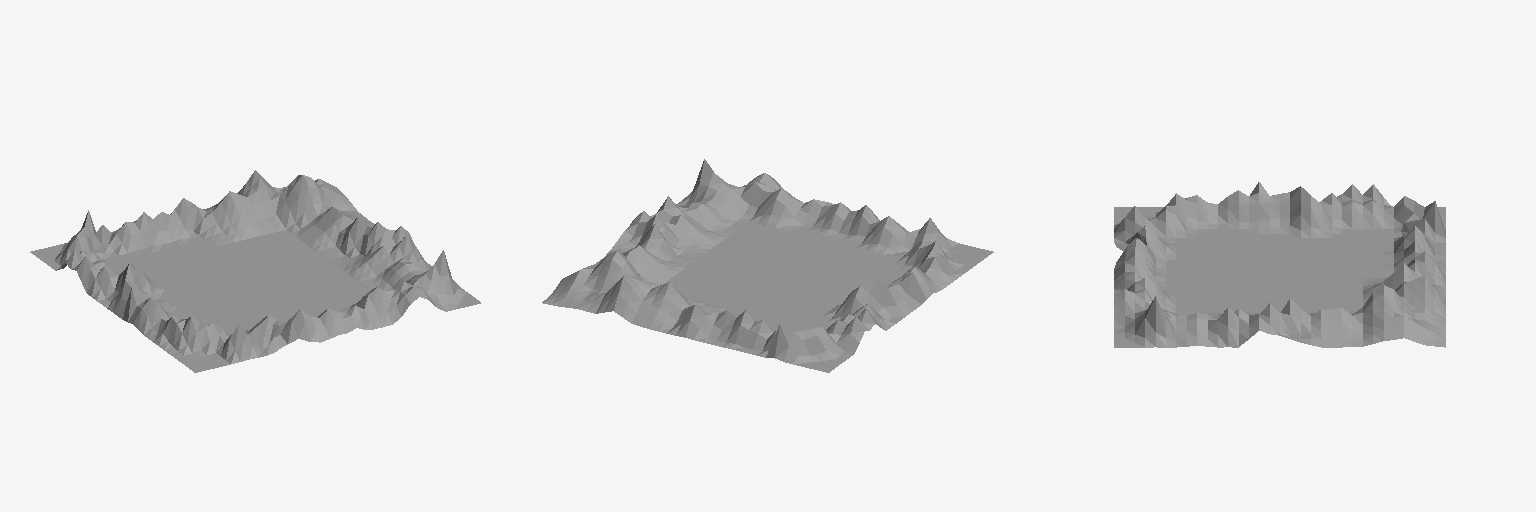
The model's file is Terrain.obj.
The picture shows the model from 3 angles: view 1: azimuth 30°, elevation 25°; view 2: azimuth 150°, elevation 25°; view 3: azimuth 270°, elevation 25°; orthographic projection.
Parts seen in each view (by area): view 1: Plane; view 2: Plane; view 3: Plane.
Part boxes in pixels (left/top/right/bottom): Plane: left=30, top=170, right=480, bottom=372; Plane: left=542, top=159, right=993, bottom=372; Plane: left=1114, top=182, right=1445, bottom=347.
Size of the model in its own units: 32 by 4.59 by 32.